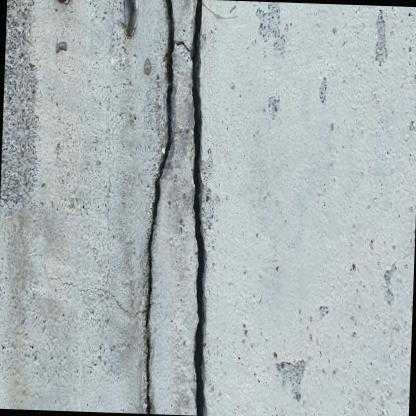crack: (48, 0, 191, 414), (190, 0, 206, 416)
